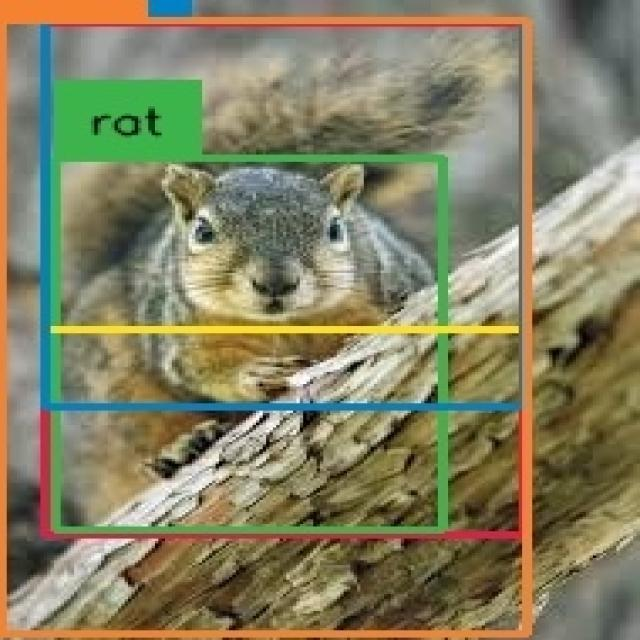rat: (2, 20, 527, 634), (47, 21, 526, 534), (47, 20, 526, 407), (47, 21, 526, 330), (54, 159, 441, 532)
